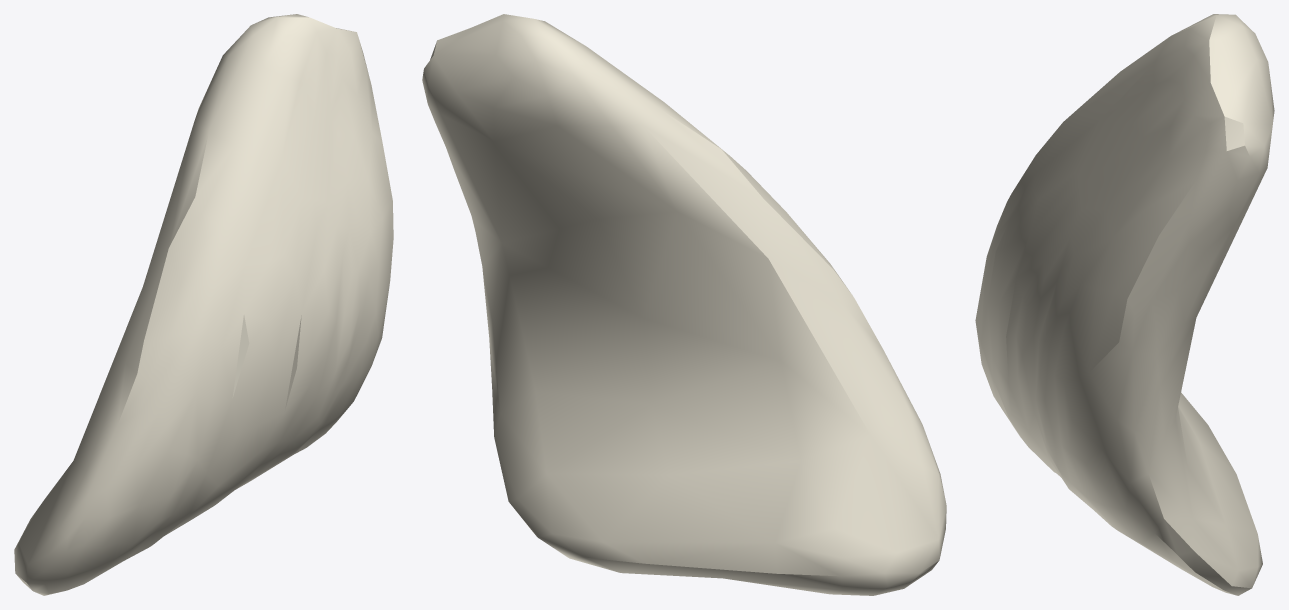
Rendered from fma73186_mm1446.glb.
3 views of the same model, side by side, from view 1: azimuth 30°, elevation 25°; view 2: azimuth 150°, elevation 25°; view 3: azimuth 270°, elevation 25° (orthographic). The views are drawn at different scales.
Parts seen in each view (by area): view 1: FMA73186_MM1446; view 2: FMA73186_MM1446; view 3: FMA73186_MM1446.
Part boxes in pixels (<box>): FMA73186_MM1446: <box>14,14,393,595</box>; FMA73186_MM1446: <box>422,14,946,595</box>; FMA73186_MM1446: <box>975,14,1274,595</box>.
Bounding box in the file's own units: 0.00801 × 0.00918 × 0.00402.
